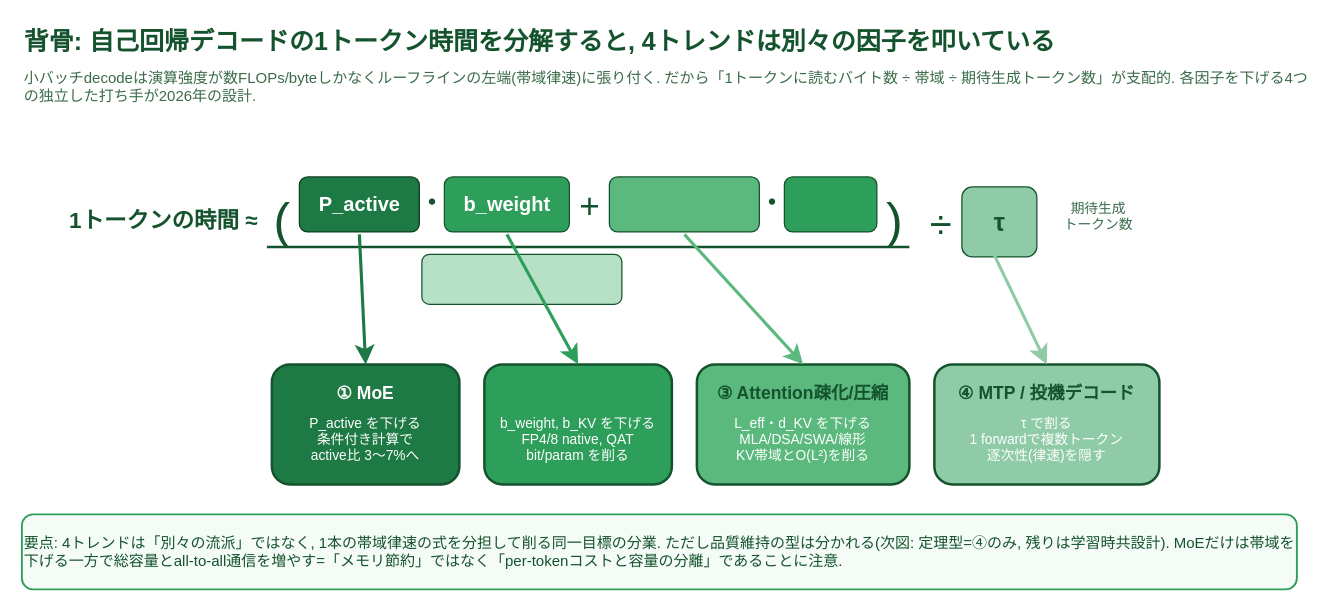
Image size: 1344x611. Some labels were removed from this diagram. The shapes that lost their labels are listed below. From the top down, each one's box as (x1, y1, x2, y2) in pixels, then its label:
(608, 176, 759, 232): L_eff・d_KV
(783, 176, 877, 232): b_KV
(421, 253, 622, 304): メモリ帯域 BW
(482, 362, 672, 485): ② 低ビット化
